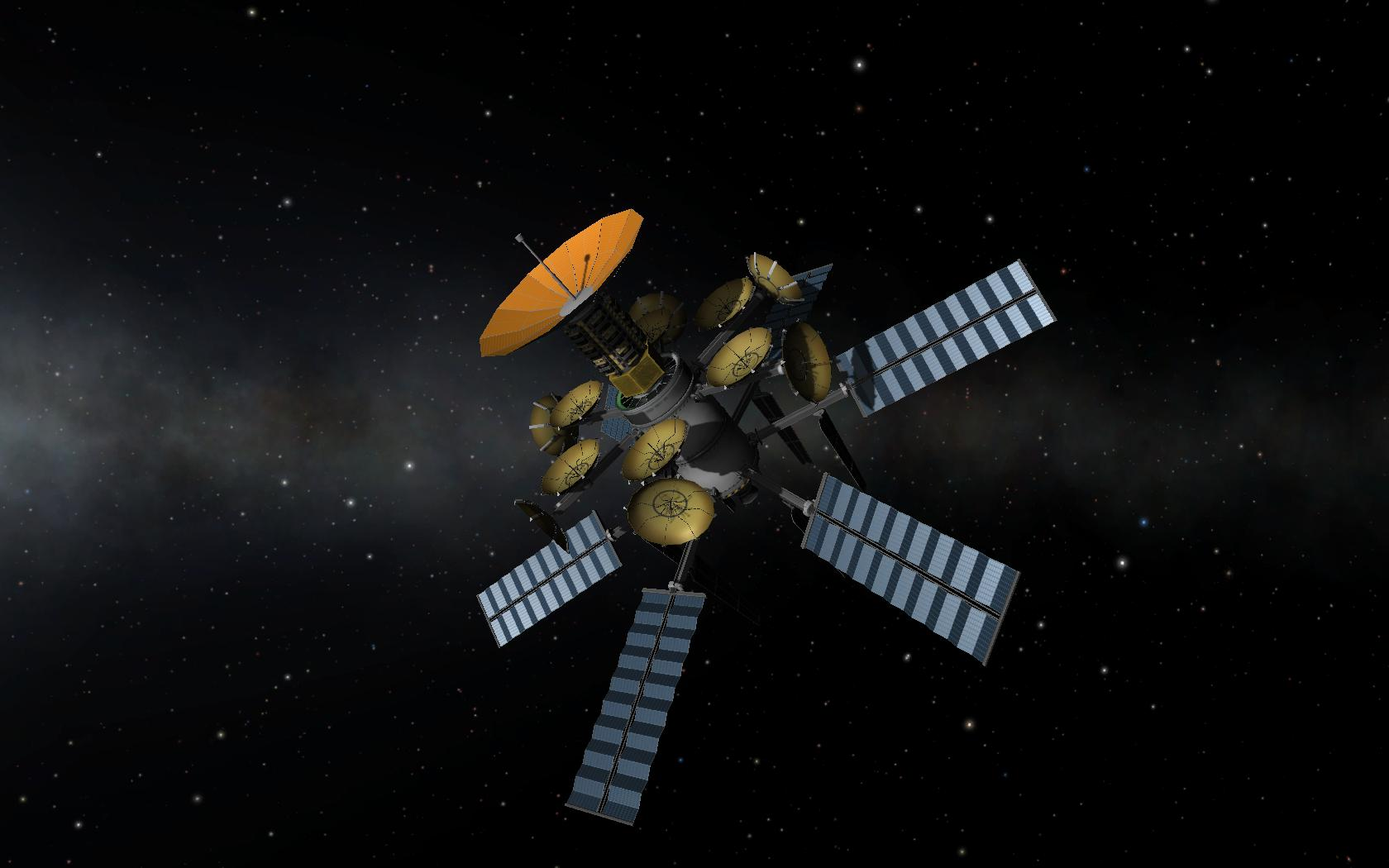antenna: (470, 207, 661, 365), (627, 478, 717, 546), (704, 324, 771, 394), (621, 419, 692, 485), (780, 320, 835, 403), (539, 436, 606, 502), (745, 242, 806, 311), (687, 276, 758, 331), (529, 393, 586, 457), (547, 378, 601, 430), (630, 304, 677, 348)
body: (613, 351, 790, 522)
solar: (799, 468, 1028, 673), (830, 246, 1067, 422), (557, 581, 709, 831), (473, 507, 627, 652)
